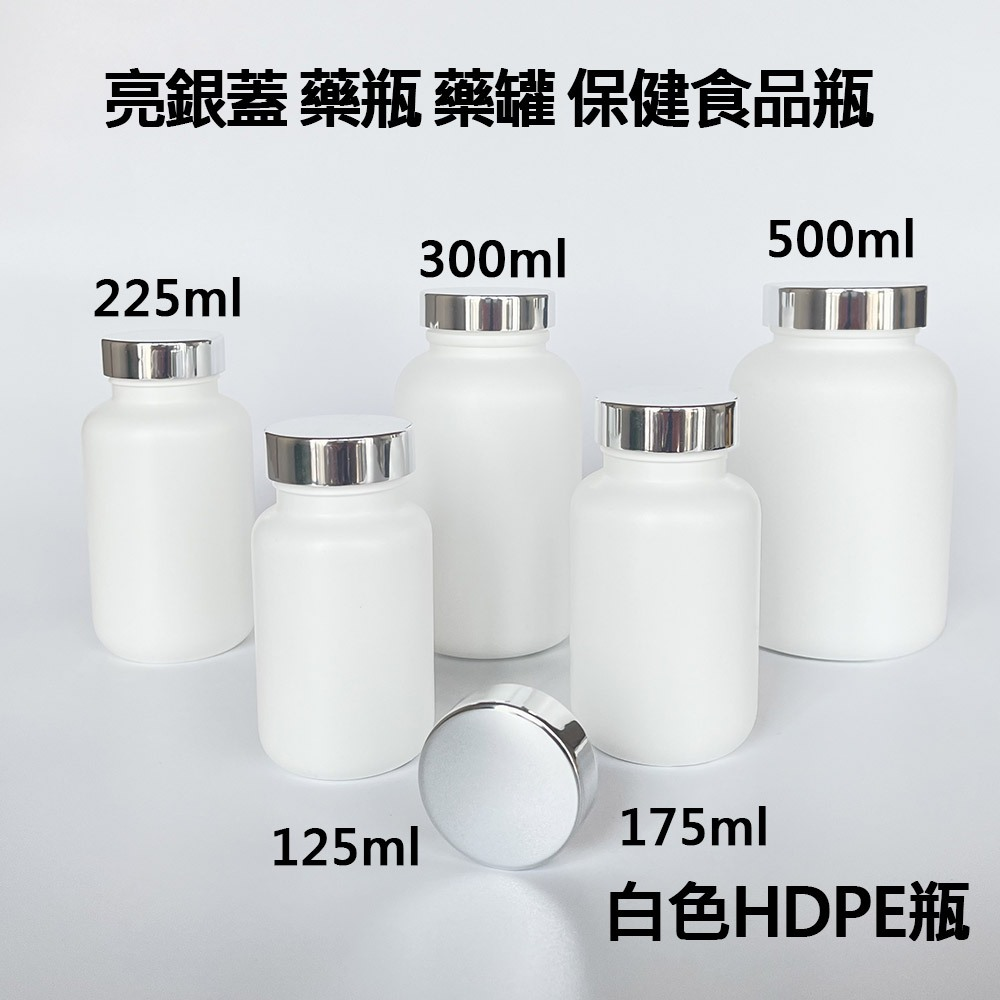medicinejar: (729, 280, 956, 665), (582, 395, 769, 765), (401, 285, 582, 657), (257, 417, 437, 768), (92, 332, 254, 658)
